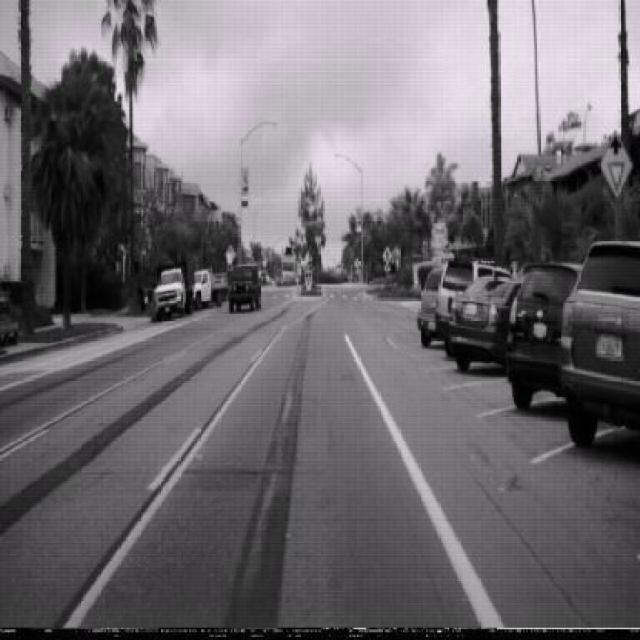keepRight: (305, 268, 313, 288)
pedestrianCrossing: (382, 245, 393, 267)
yieldAhead: (598, 129, 634, 199)
